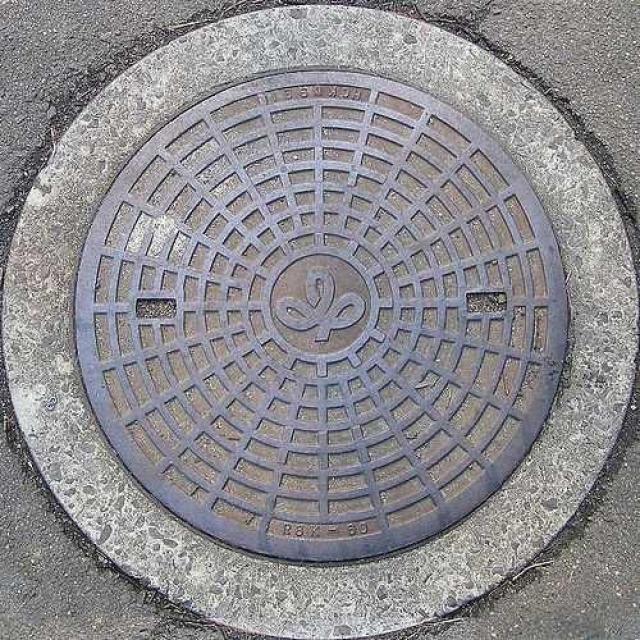manhole: (76, 71, 565, 560)
